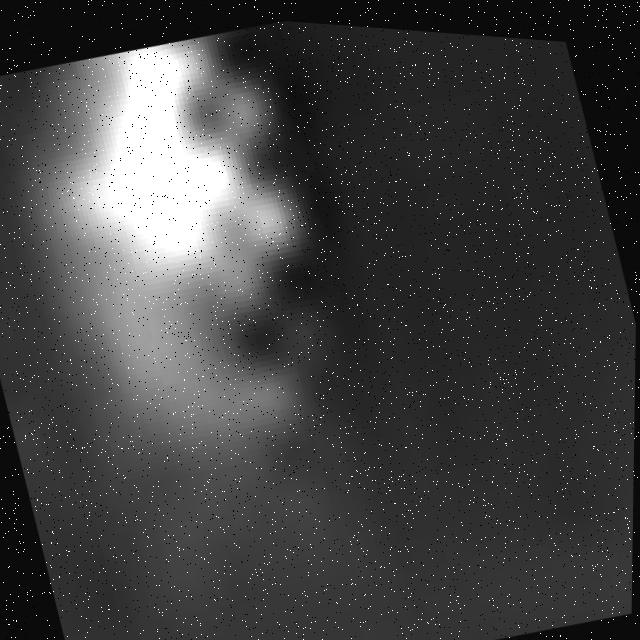person: (1, 5, 379, 533)
